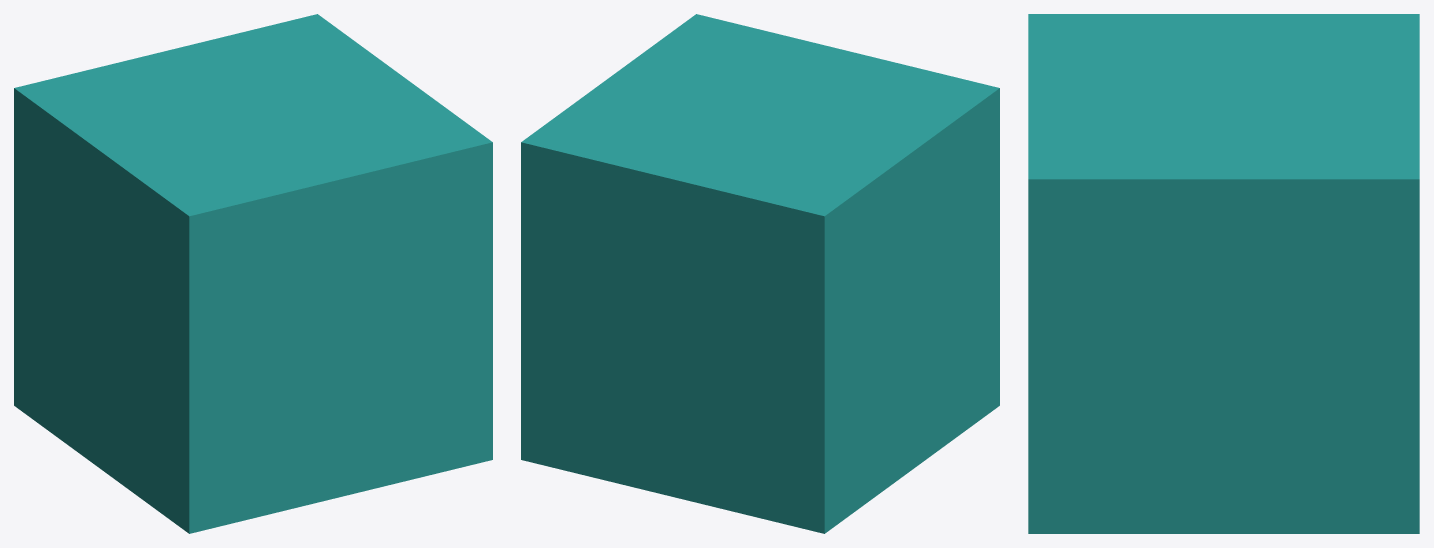
Rendered from cell-sphere.dae.
3 views of the same model, side by side, from view 1: azimuth 30°, elevation 25°; view 2: azimuth 150°, elevation 25°; view 3: azimuth 270°, elevation 25° (orthographic). The views are drawn at different scales.
Visible parts, largest first — view 1: Cell, Cell-Outline; view 2: Cell, Cell-Outline; view 3: Cell, Cell-Outline.
Boxes of the visible parts, box(x1,y1,x2,y2) form: Cell: box(14, 14, 492, 533); Cell-Outline: box(14, 14, 491, 533); Cell: box(521, 14, 999, 533); Cell-Outline: box(521, 19, 999, 533); Cell: box(1028, 14, 1419, 533); Cell-Outline: box(1028, 14, 1419, 533).
Bounding box in the file's own units: 0.6667 × 0.6667 × 0.6667.
